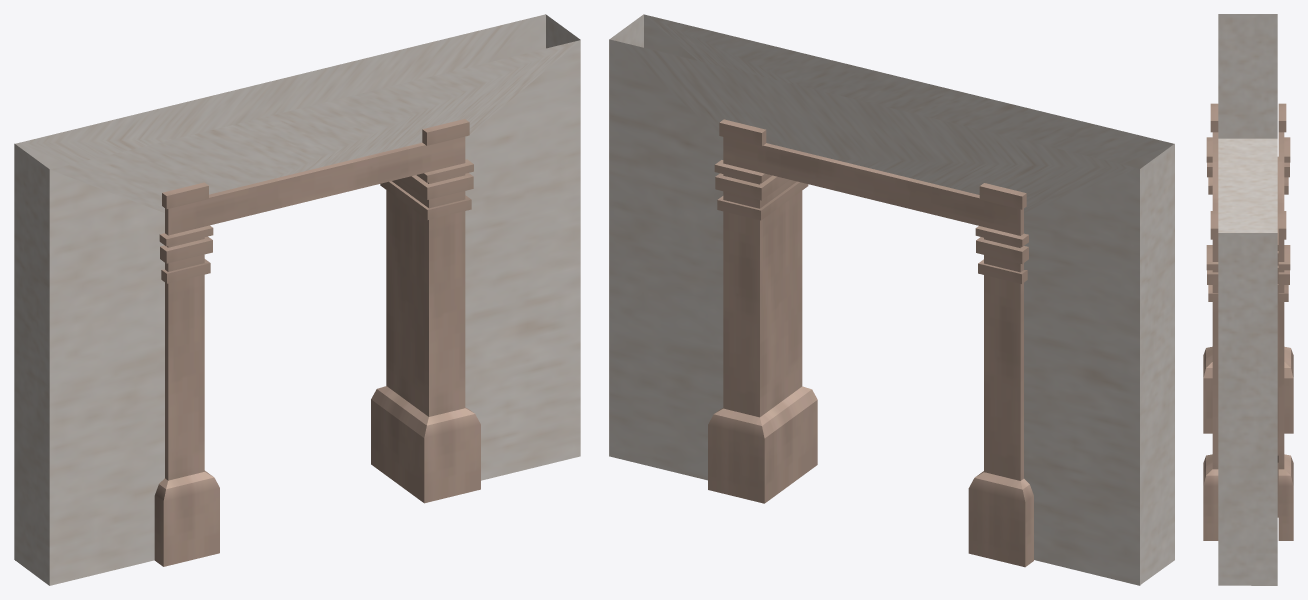
The model's file is Wall_With_Door.fbx.
The picture shows the model from 3 angles, left to right: view 1: azimuth 30°, elevation 25°; view 2: azimuth 150°, elevation 25°; view 3: azimuth 270°, elevation 25°; orthographic projection. The views are drawn at different scales.
Parts seen in each view (by area): view 1: Wall_With_Door, Wall_With_Door_Arch, Wall_With_Door_Back_Wall, Wall_With_Door_Left_Side; view 2: Wall_With_Door_Back_Wall, Wall_With_Door_Arch, Wall_With_Door, Wall_With_Door_Left_Side, Wall_With_Door_Left_Side1; view 3: Wall_With_Door_Left_Side1, Wall_With_Door_Arch, Wall_With_Door_Left_Side, Wall_With_Door_Inside_No_Arch.
Part boxes in pixels (box(x1,y1,x2,y2)): Wall_With_Door: box(49, 40, 580, 585); Wall_With_Door_Arch: box(154, 119, 480, 566); Wall_With_Door_Back_Wall: box(15, 14, 545, 560); Wall_With_Door_Left_Side: box(14, 143, 49, 585); Wall_With_Door_Back_Wall: box(609, 39, 1140, 585); Wall_With_Door_Arch: box(708, 119, 1033, 567); Wall_With_Door: box(644, 14, 1173, 168); Wall_With_Door_Left_Side: box(1140, 144, 1174, 584); Wall_With_Door_Left_Side1: box(609, 14, 643, 456); Wall_With_Door_Left_Side1: box(1218, 233, 1277, 585); Wall_With_Door_Arch: box(1203, 103, 1293, 540); Wall_With_Door_Left_Side: box(1218, 14, 1277, 138); Wall_With_Door_Inside_No_Arch: box(1218, 138, 1277, 232).
Size of the model in its own units: 0.04 by 0.03 by 0.00694.
